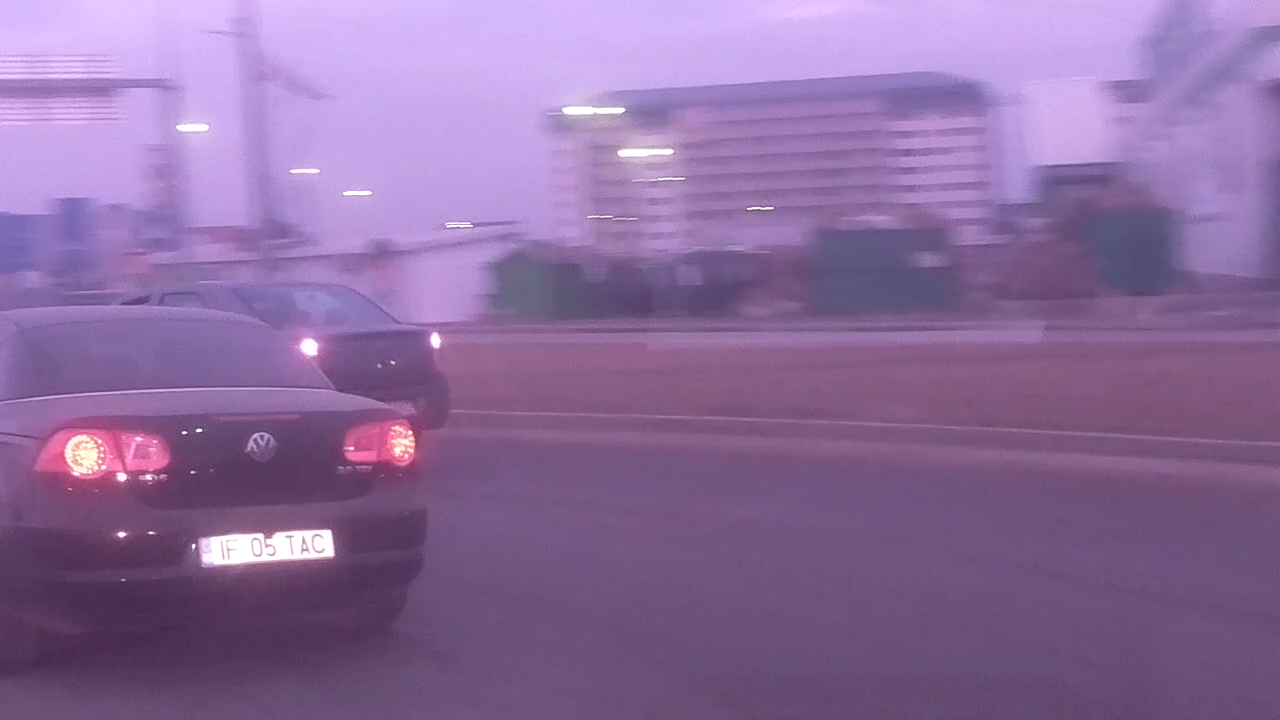license-plate: (193, 522, 340, 570)
